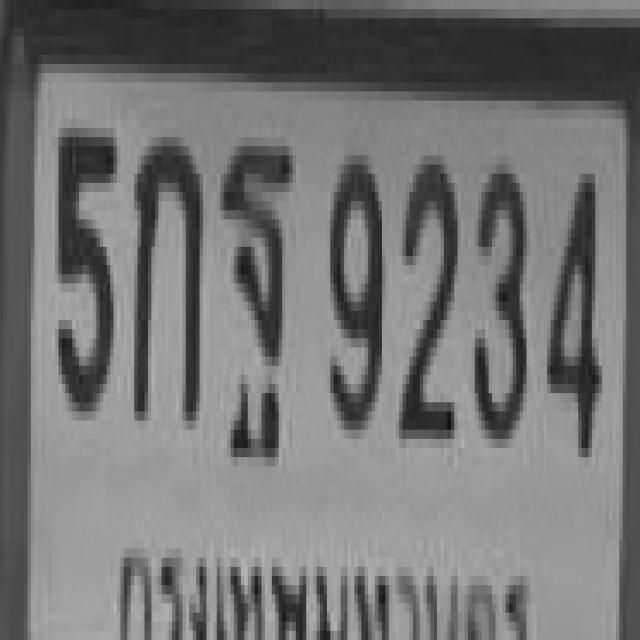10GorGai: (130, 128, 200, 411)
2: (396, 151, 454, 434)
25ThorThan: (217, 137, 289, 421)
3: (471, 155, 523, 430)
4: (544, 165, 598, 448)
5: (55, 119, 114, 402)
9: (327, 146, 378, 421)
